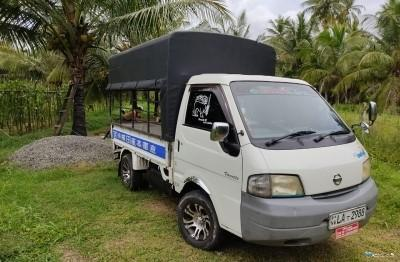truck: (105, 32, 378, 251)
